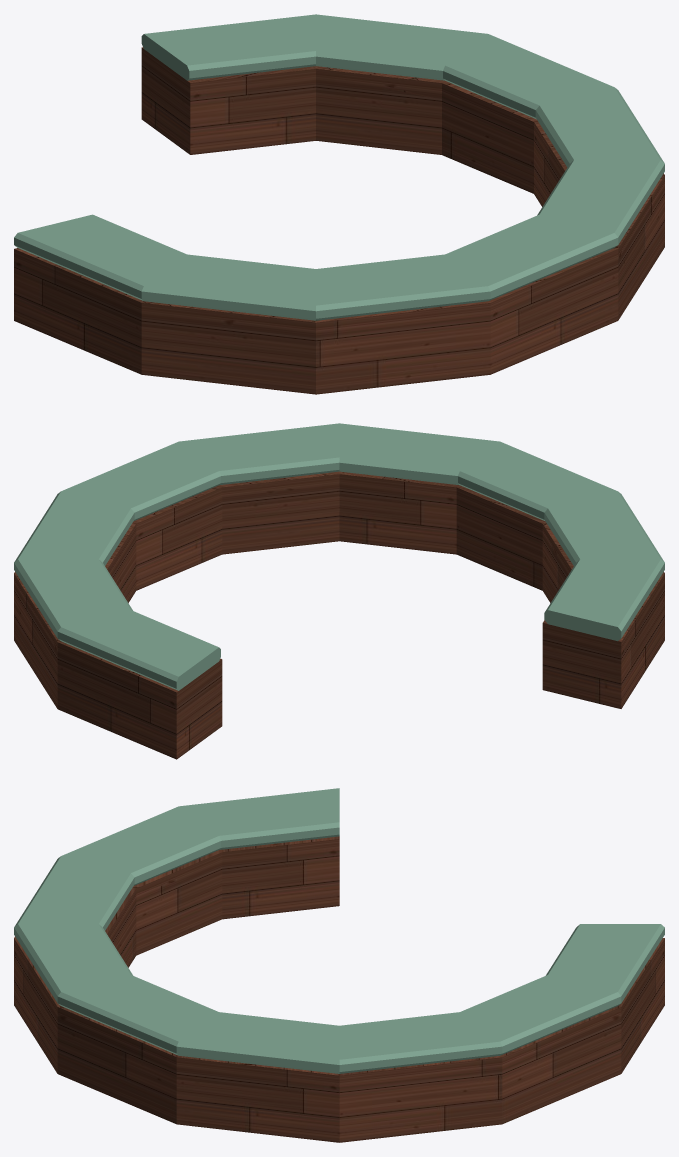
File: window_seat.glb
3 views of the same model, one above another, from view 1: azimuth 30°, elevation 25°; view 2: azimuth 150°, elevation 25°; view 3: azimuth 270°, elevation 25° (orthographic). The views are drawn at different scales.
Visible parts, largest first — view 1: window_seat_dkwood, window_seat_velvet_g; view 2: window_seat_velvet_g, window_seat_dkwood; view 3: window_seat_dkwood, window_seat_velvet_g.
Boxes of the visible parts, x1=… form: window_seat_dkwood: x1=14, y1=47, x2=664, y2=394; window_seat_velvet_g: x1=14, y1=14, x2=664, y2=320; window_seat_velvet_g: x1=14, y1=423, x2=664, y2=690; window_seat_dkwood: x1=14, y1=471, x2=664, y2=759; window_seat_dkwood: x1=14, y1=836, x2=664, y2=1142; window_seat_velvet_g: x1=14, y1=788, x2=664, y2=1073.
Size of the model in its own units: 3.34 by 0.46 by 3.34.
Materials: 2 (1 with a texture image).
